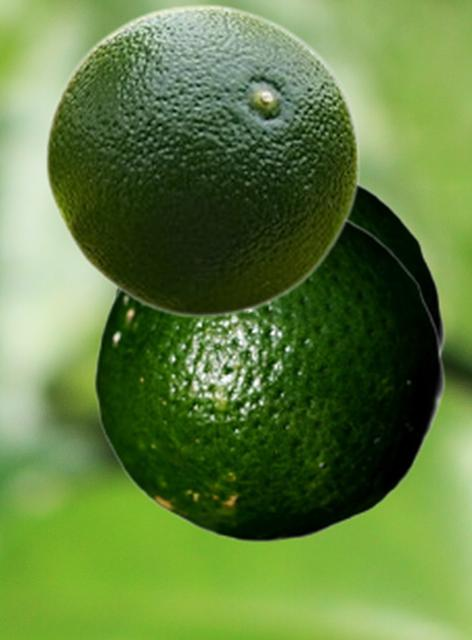calamansi: (93, 217, 445, 542), (43, 3, 361, 317), (108, 179, 445, 362)
